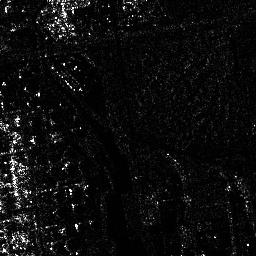ship: (49, 59, 84, 93)
